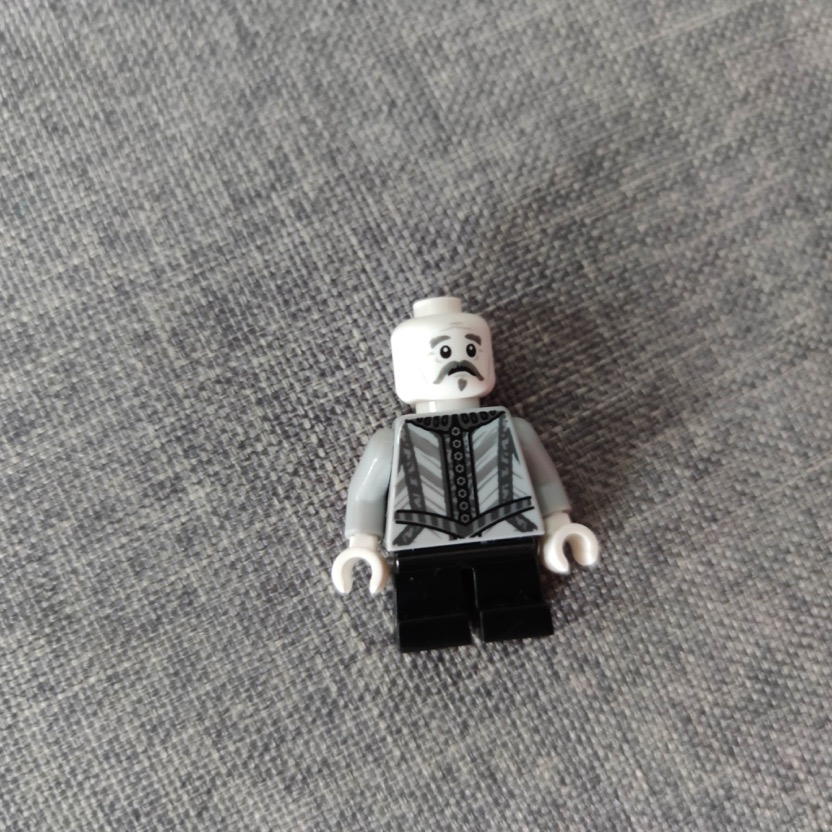lego: (331, 296, 600, 657)
